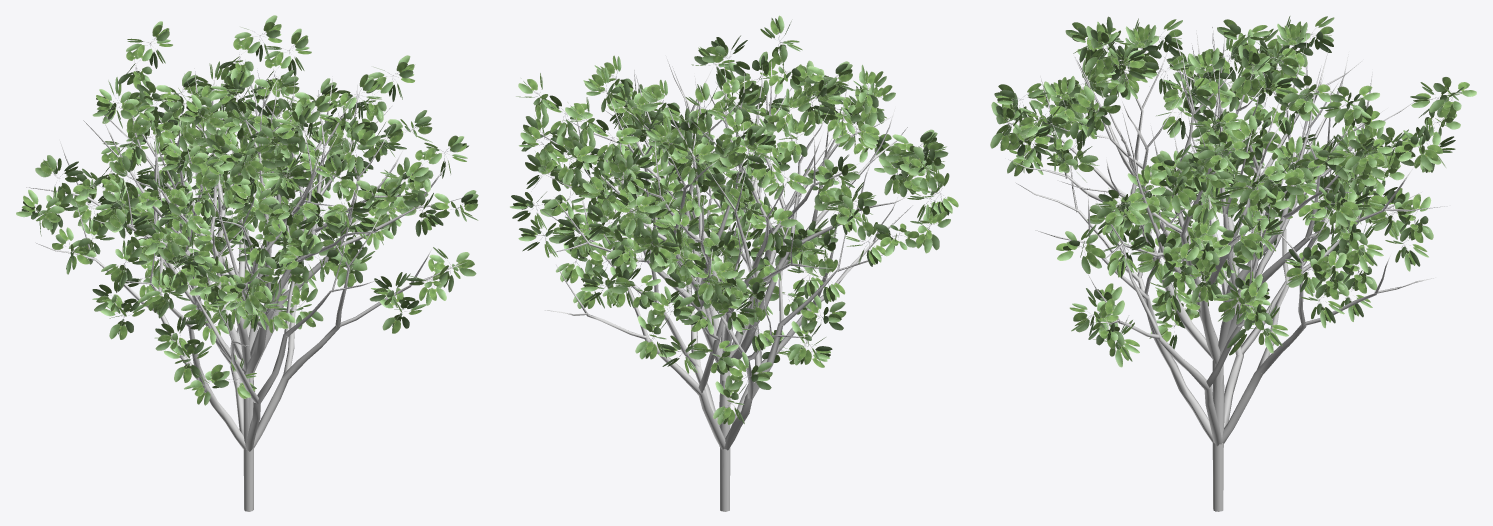
File: TreeLOD0.fbx
3 renders of one model, left to right at view 1: azimuth 30°, elevation 25°; view 2: azimuth 150°, elevation 25°; view 3: azimuth 270°, elevation 25°, orthographic. The views are drawn at different scales.
Parts seen in each view (by area): view 1: Plane.1544, Tree.001; view 2: Plane.1544, Tree.001; view 3: Plane.1544, Tree.001.
Boxes of the visible parts, x1,y1,x2,y2 form: Plane.1544: (16, 15, 478, 405); Tree.001: (26, 61, 466, 511); Plane.1544: (510, 15, 958, 424); Tree.001: (540, 59, 912, 511); Plane.1544: (990, 16, 1476, 367); Tree.001: (1006, 27, 1447, 511).
Bounding box in the file's own units: 427 × 455 × 418.
